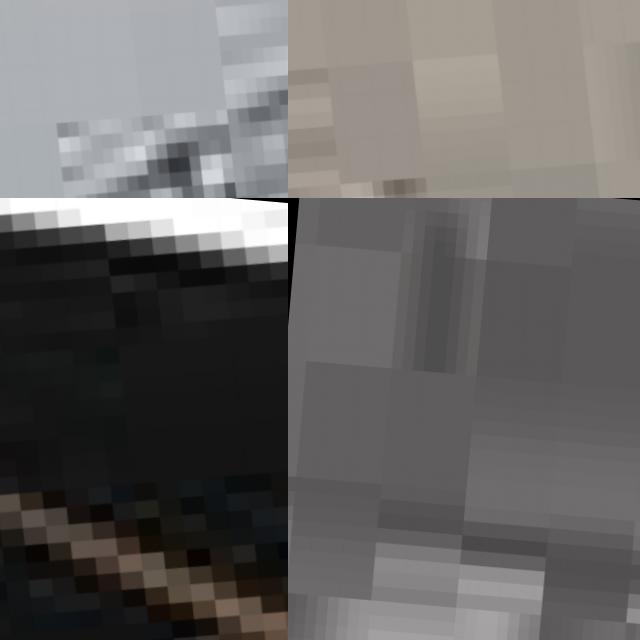0: (288, 0, 640, 198), (0, 0, 288, 198)
drone: (0, 198, 288, 640)
